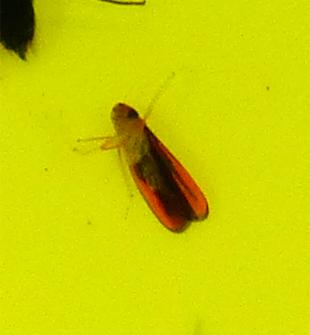Hemiptera: (100, 100, 210, 235)
